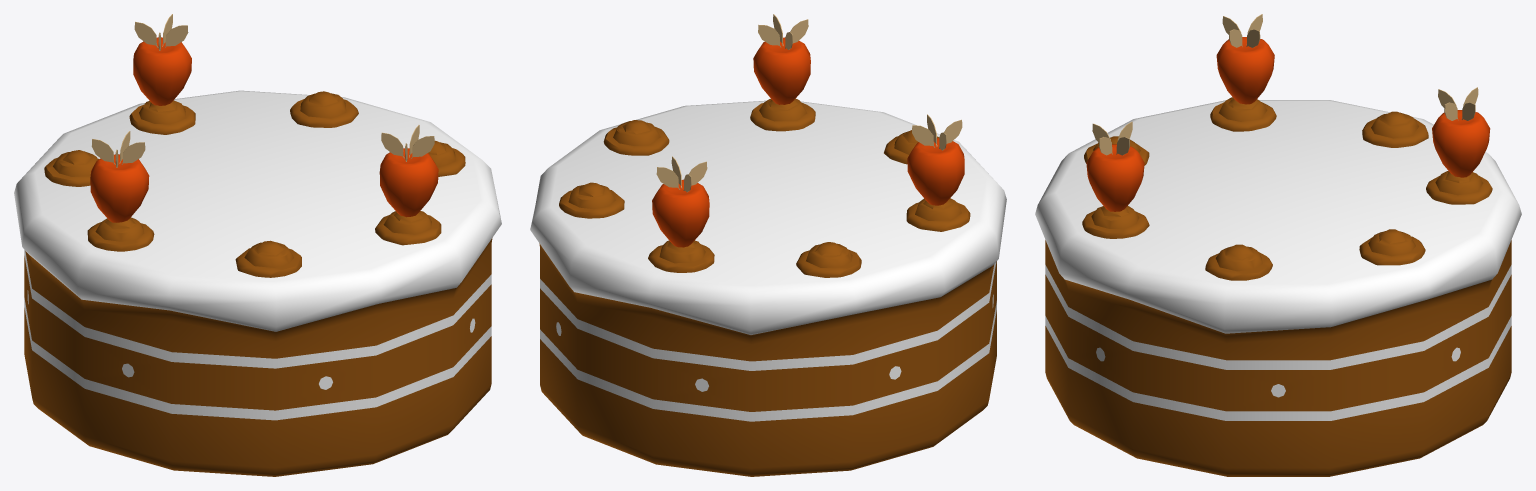
File: Cake_2.fbx
3 views of the same model, side by side, from view 1: azimuth 30°, elevation 25°; view 2: azimuth 150°, elevation 25°; view 3: azimuth 270°, elevation 25° (orthographic). The views are drawn at different scales.
Visible parts, largest first — view 1: Cake_2; view 2: Cake_2; view 3: Cake_2.
Part boxes in pixels (x1,y1,x2,y2): Cake_2: (14, 14, 501, 476); Cake_2: (530, 14, 1006, 476); Cake_2: (1035, 14, 1521, 476).
Size of the model in its own units: 0.3125 by 0.2088 by 0.3205.
